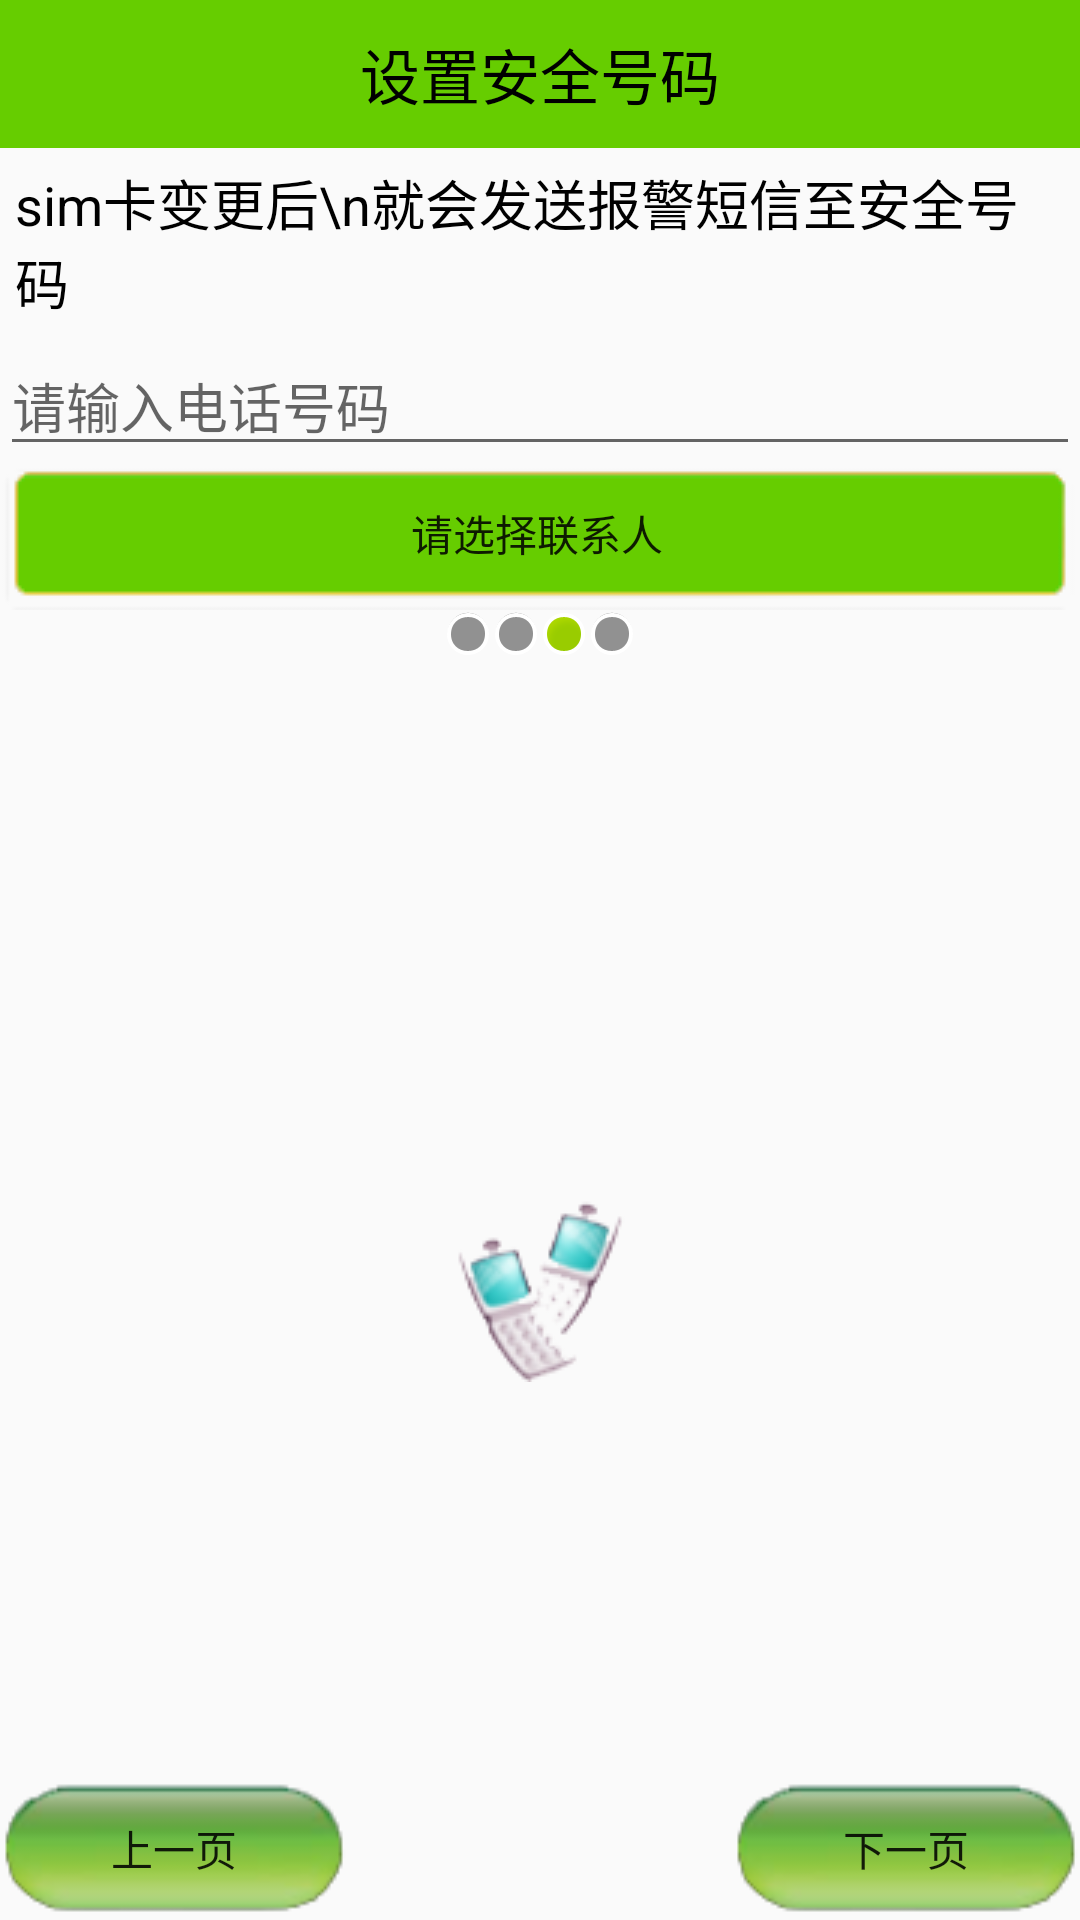

Named icons in this screenshot (1080 × 1920) and their centers, [x,y]:
phone: [540,1293]
